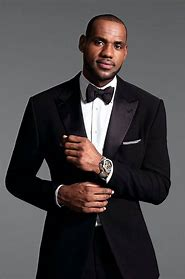person: (77, 13, 129, 83)
